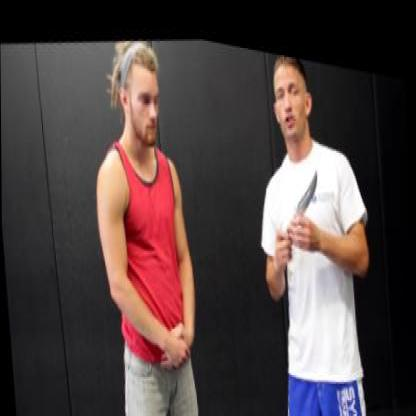knife: (268, 140, 326, 255)
